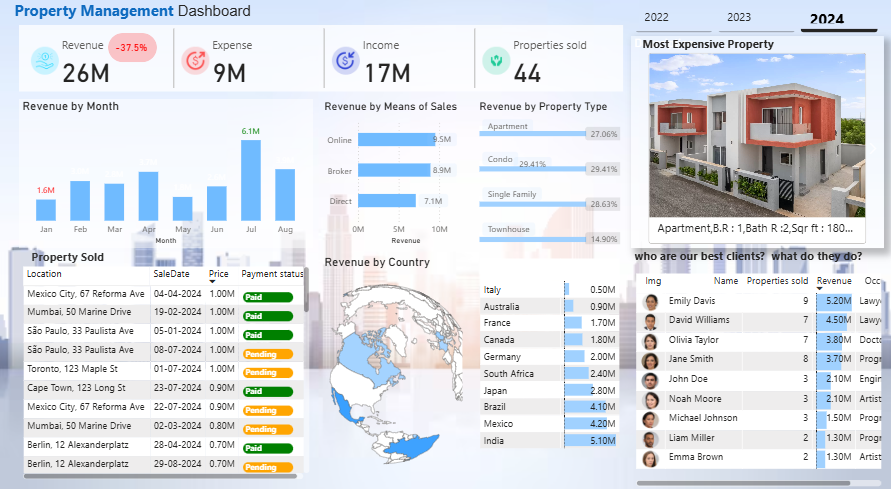

The page's visual inventory and layout, read from the dashboard file:
{"tool":"powerbi","page":{"name":"dashboard","canvas":[1280,720],"ordinal":1},"visuals":[{"type":"advancedSlicerVisual","fields":{"Values":["Calendar.Year"]},"box":[905.7,0,358.6,57.1],"z":0},{"type":"cardVisual","fields":{"Data":["All measures.REVENUE","All measures.Expense","All measures.income","All measures.properties sold"]},"box":[30,41.7,863.3,95],"z":1000},{"type":"shape","box":[156.7,53.3,70,41.7],"z":2000},{"type":"cardVisual","fields":{"Data":["All measures.Revenue Growth %"]},"box":[150,40,82.9,54.3],"z":3000},{"type":"clusteredColumnChart","fields":{"Y":["All measures.Revenue"],"Category":["Calendar.Month"]},"box":[30,147.1,420,212.9],"z":4000},{"type":"clusteredBarChart","fields":{"Y":["All measures.Revenue"],"Category":["Sales_Table.Means of Sales"]},"box":[461.4,147.1,207.1,212.9],"z":5000},{"type":"clusteredBarChart","title":"Revenue by Property Type","fields":{"Y":["All measures.Base Zero","All measures.% GT","All measures.whole"],"Category":["Property_Table.Type"]},"box":[682.5,147.5,211.2,212.5],"z":6000},{"type":"tableEx","fields":{"Values":["Property_Table.Location","Sales_Table.SaleDate","Property_Table.Price","All measures.Payment status svg"]},"box":[30,381.4,420,314.3],"z":7000},{"type":"shapeMap","fields":{"Value":["All measures.Revenue"],"Category":["Property_Table.Country"]},"box":[461.4,370,207.1,325.7],"z":8000},{"type":"tableEx","fields":{"Values":["Property_Table.Country","All measures.Revenue"]},"box":[682.9,370,210,325.7],"z":9000},{"type":"tableEx","fields":{"Values":["Client_Table.Img","Client_Table.Name","All measures.Properties sold","All measures.Revenue","Client_Table.Occupation"]},"box":[905.7,391.4,361.4,314.3],"z":10000},{"type":"advancedSlicerVisual","fields":{"Values":["Property_Table.Description"]},"box":[904.3,57.1,361.4,302.9],"z":11000},{"type":"textbox","box":[18.6,0,394.3,52.9],"z":12000},{"type":"textbox","box":[42.9,357.1,114.3,34.3],"z":13000},{"type":"textbox","box":[915.7,52.9,215.7,35.7],"z":14000},{"type":"textbox","box":[904.3,355.7,348.6,35.7],"z":15000}]}

Visuals, with their boxes in screenshot pixels (x1, y1, x2, y2), scaled from the page's 1280x720 canvas onto the 891x489 screenshot:
advancedSlicerVisual - Calendar.Year: [x1=630, y1=0, x2=880, y2=39]
cardVisual - All measures.REVENUE x All measures.Expense: [x1=21, y1=28, x2=622, y2=93]
shape: [x1=109, y1=36, x2=158, y2=65]
cardVisual - All measures.Revenue Growth %: [x1=104, y1=27, x2=162, y2=64]
clusteredColumnChart - All measures.Revenue x Calendar.Month: [x1=21, y1=100, x2=313, y2=244]
clusteredBarChart - All measures.Revenue x Sales_Table.Means of Sales: [x1=321, y1=100, x2=465, y2=244]
"Revenue by Property Type" clusteredBarChart: [x1=475, y1=100, x2=622, y2=244]
tableEx - Property_Table.Location x Sales_Table.SaleDate: [x1=21, y1=259, x2=313, y2=472]
shapeMap - All measures.Revenue x Property_Table.Country: [x1=321, y1=251, x2=465, y2=472]
tableEx - Property_Table.Country x All measures.Revenue: [x1=475, y1=251, x2=622, y2=472]
tableEx - Client_Table.Img x Client_Table.Name: [x1=630, y1=266, x2=882, y2=479]
advancedSlicerVisual - Property_Table.Description: [x1=629, y1=39, x2=881, y2=244]
textbox: [x1=13, y1=0, x2=287, y2=36]
textbox: [x1=30, y1=243, x2=109, y2=266]
textbox: [x1=637, y1=36, x2=788, y2=60]
textbox: [x1=629, y1=242, x2=872, y2=266]
